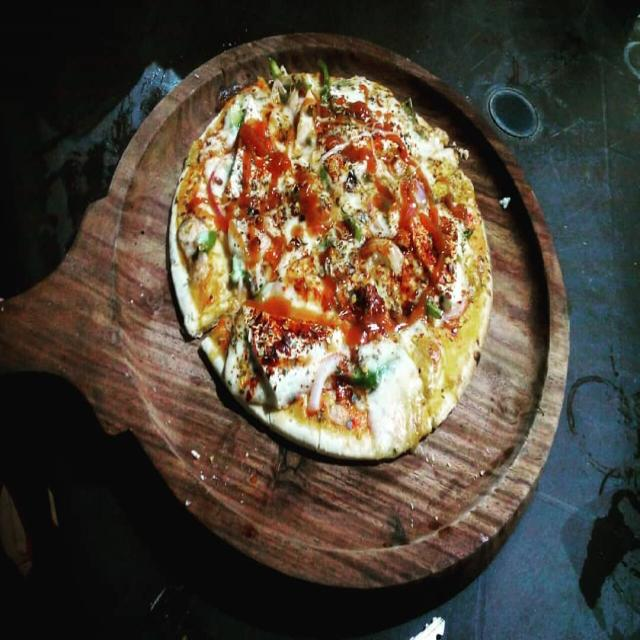pizza: (169, 61, 492, 463)
